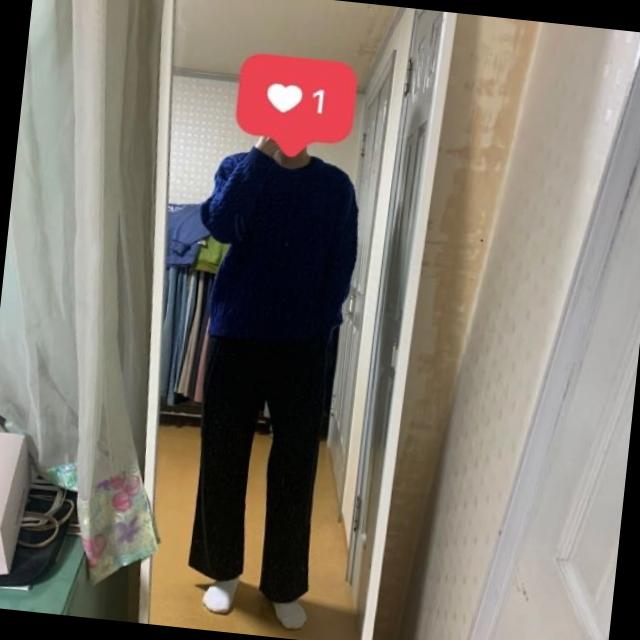slacks: (187, 314, 342, 602)
sweater: (191, 146, 370, 356)
